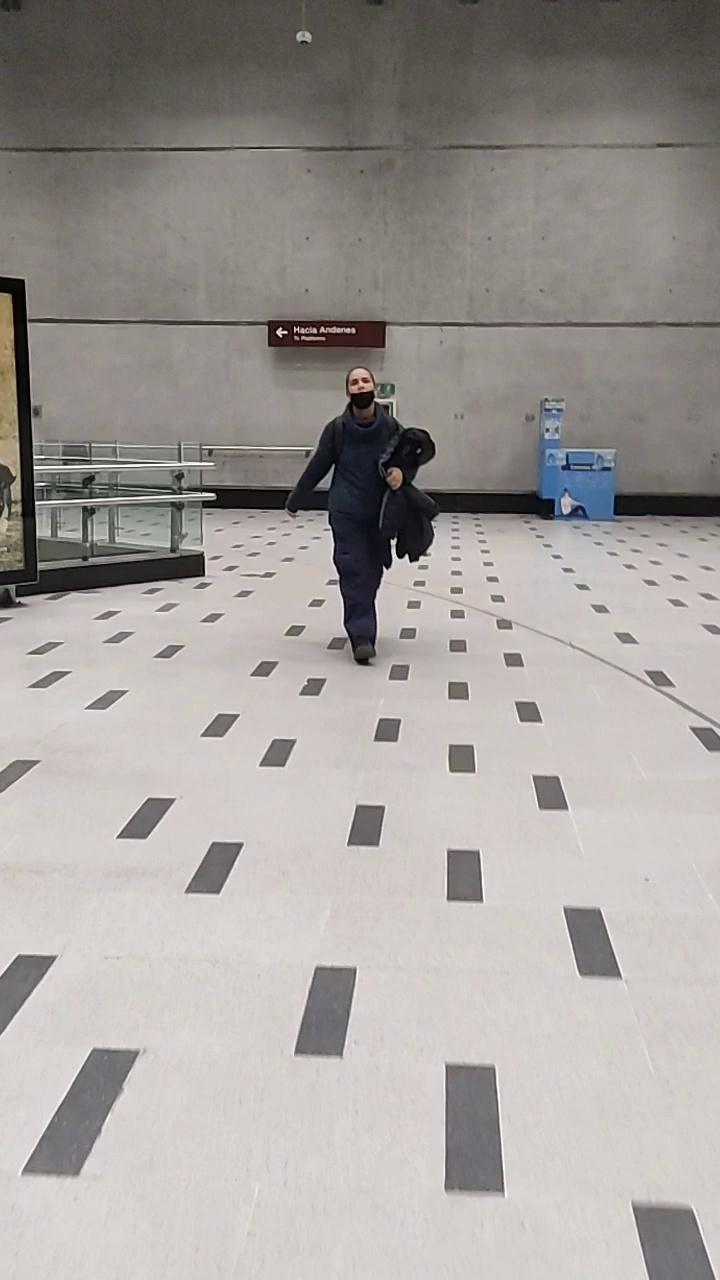left arrow: (272, 324, 292, 342)
